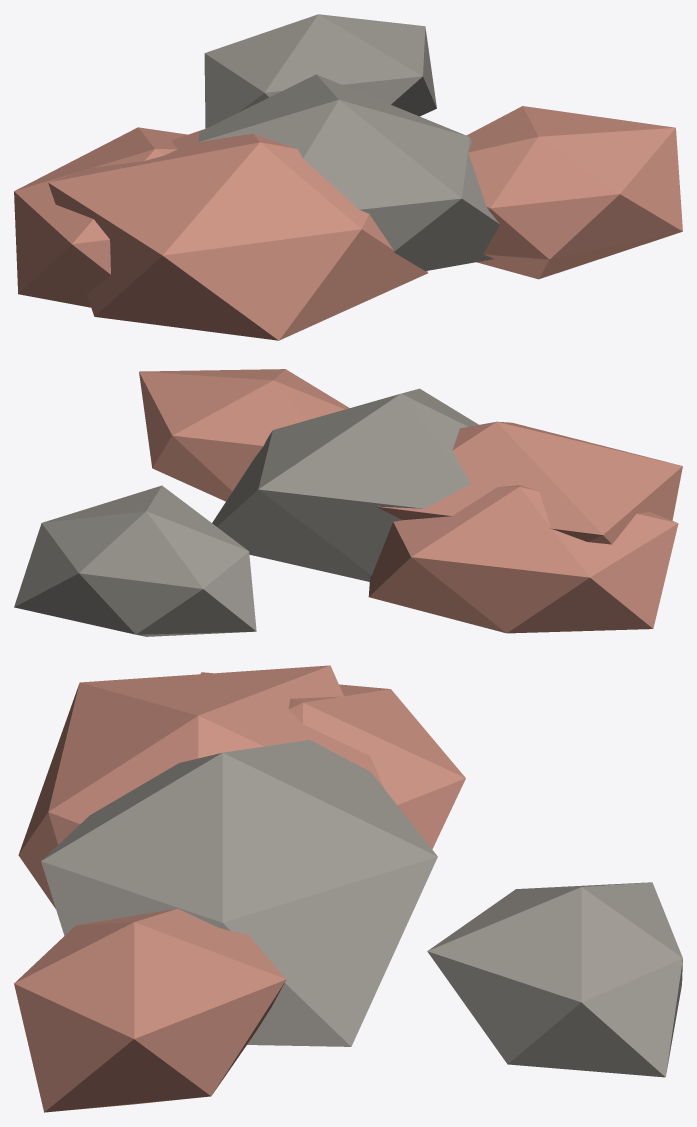
The model's file is stenar_3.glb.
The picture shows the model from 3 angles, top to bottom: view 1: azimuth 30°, elevation 25°; view 2: azimuth 150°, elevation 25°; view 3: azimuth 270°, elevation 25°; orthographic projection. The views are drawn at different scales.
Parts seen in each view (by area): view 1: stenar_3; view 2: stenar_3; view 3: stenar_3.
Boxes of the visible parts, x1,y1,x2,y2 form: stenar_3: [14, 14, 682, 340]; stenar_3: [14, 369, 682, 636]; stenar_3: [14, 665, 682, 1112].
Size of the model in its own units: 1.62 by 0.5103 by 1.24.
